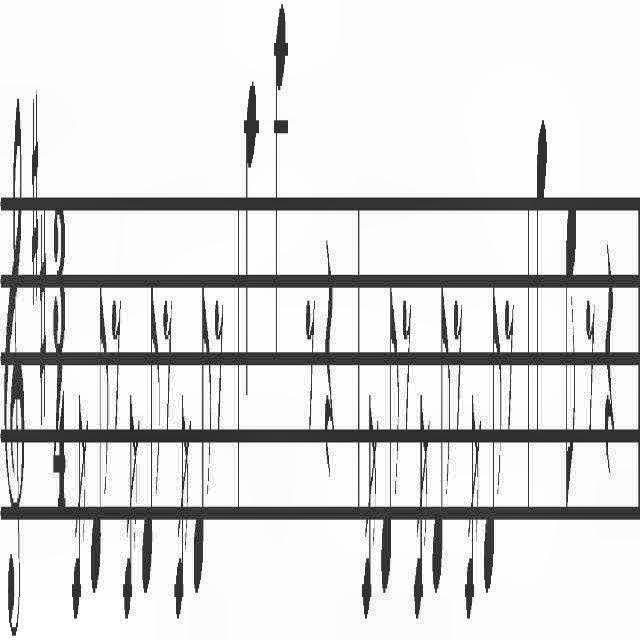Bass-clef: (3, 92, 25, 636)
Diez: (39, 200, 47, 432), (31, 83, 39, 313)
Eighth-note: (90, 264, 110, 608), (141, 270, 161, 610), (432, 272, 452, 608), (192, 279, 212, 611), (483, 266, 503, 598), (380, 282, 400, 598), (565, 187, 581, 525)
Eighth-rest: (110, 282, 122, 436), (304, 285, 316, 435), (453, 288, 463, 444), (163, 285, 173, 439), (401, 285, 411, 439), (585, 294, 595, 448), (505, 285, 515, 435), (215, 291, 225, 439)
Quarter-note: (273, 0, 287, 374), (245, 68, 259, 414), (536, 104, 548, 454)
Quarter-rest: (324, 230, 336, 494), (605, 236, 615, 484)
